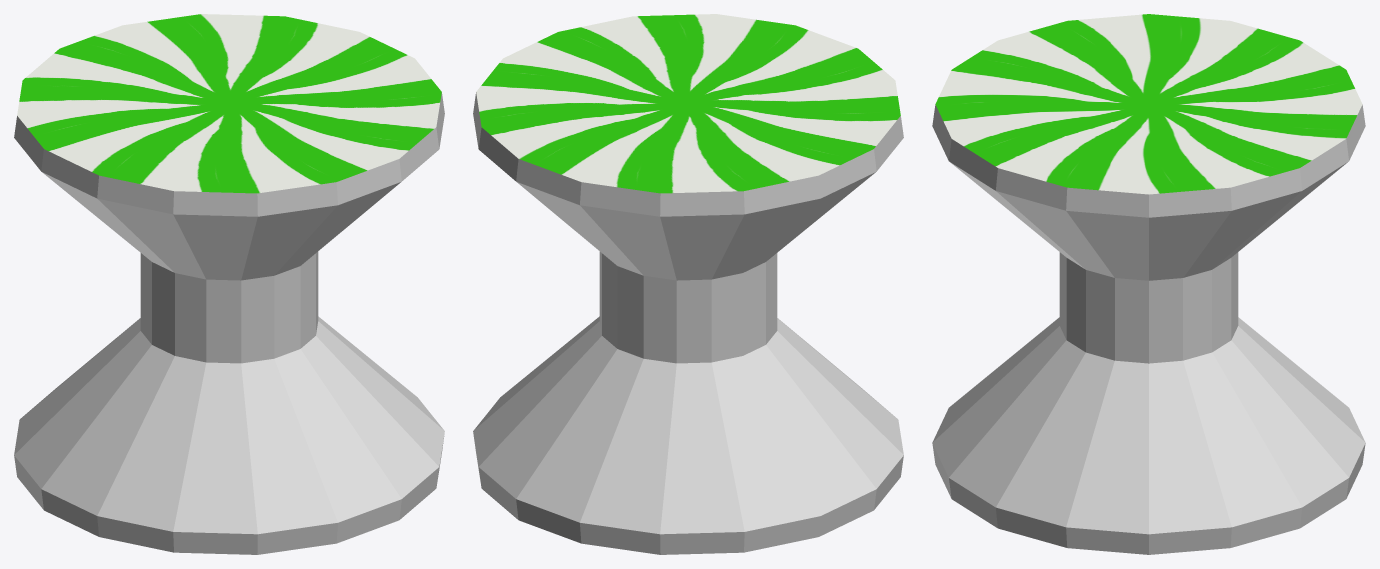
File: G477Proj1Targets.fbx
3 views of the same model, side by side, from view 1: azimuth 30°, elevation 25°; view 2: azimuth 150°, elevation 25°; view 3: azimuth 270°, elevation 25° (orthographic).
Visible parts, largest first — view 1: Target2; view 2: Target2; view 3: Target2.
Boxes of the visible parts, x1,y1,x2,y2 form: Target2: (14, 14, 444, 554); Target2: (473, 14, 903, 554); Target2: (932, 14, 1365, 554).
Size of the model in its own units: 214 by 196 by 214.
